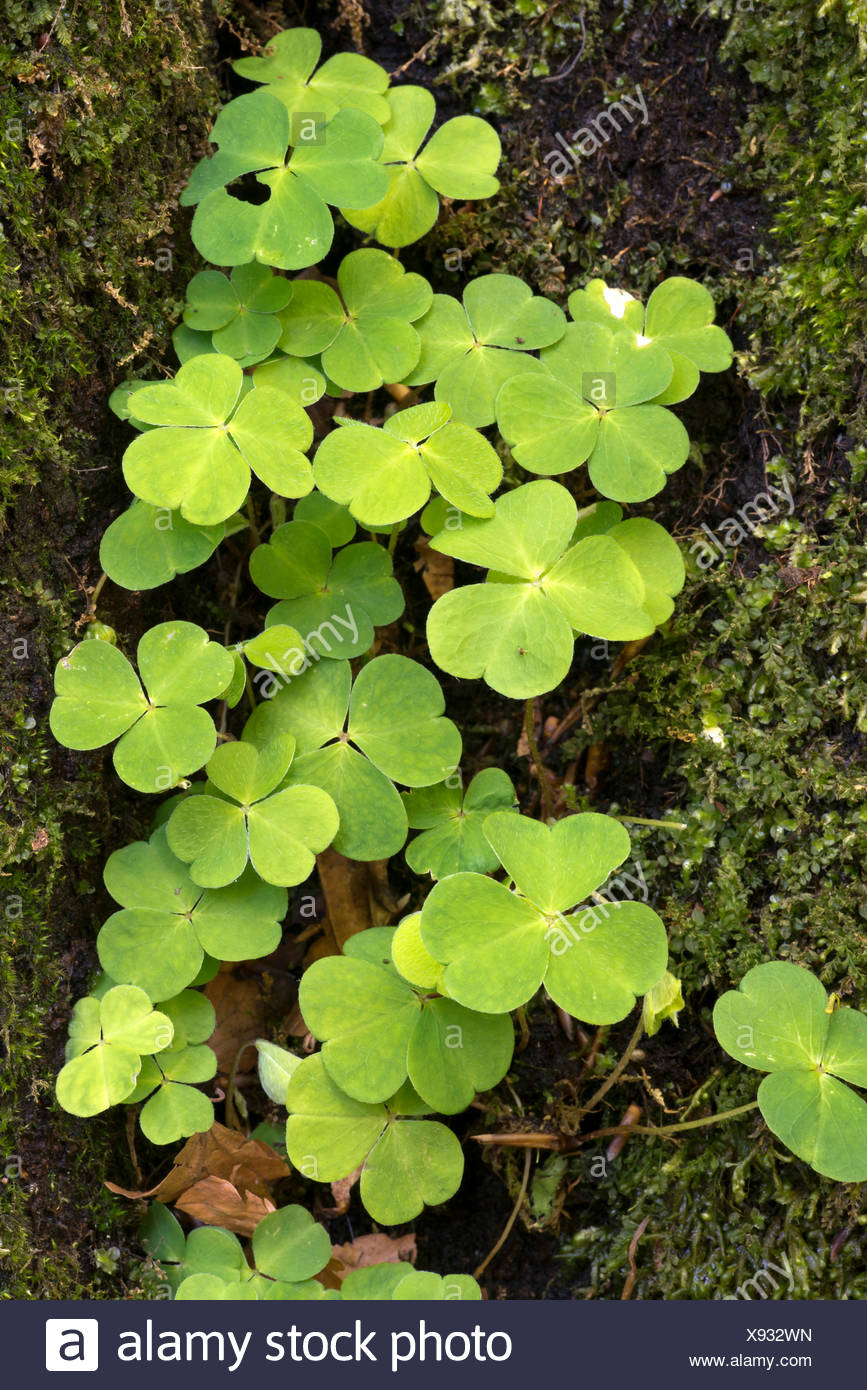oxalis: (175, 72, 688, 1295), (713, 946, 867, 1194)
